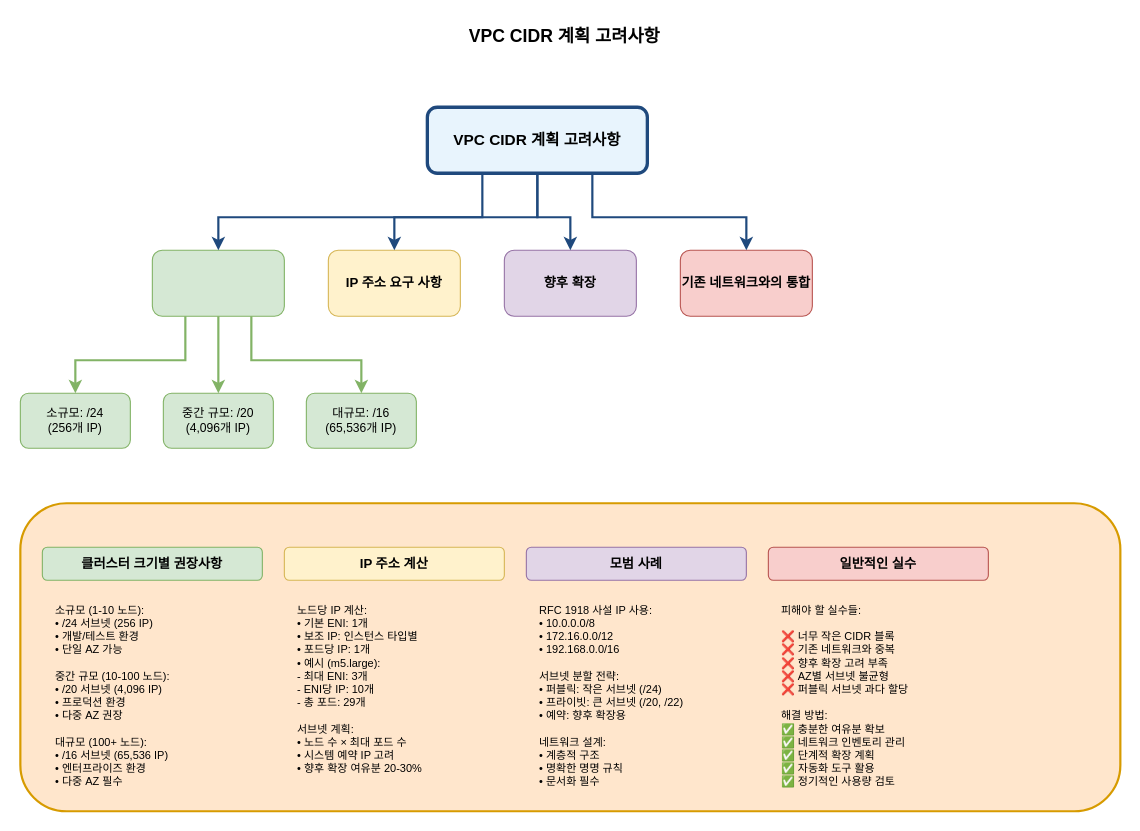
Some shapes in this 1140 by 831 pixel diagram are drawn without their labels. Each missing label, with the box of its shape:
CIDR 계획 가이드: (19, 502, 1121, 812)
클러스터 크기: (151, 249, 284, 316)
